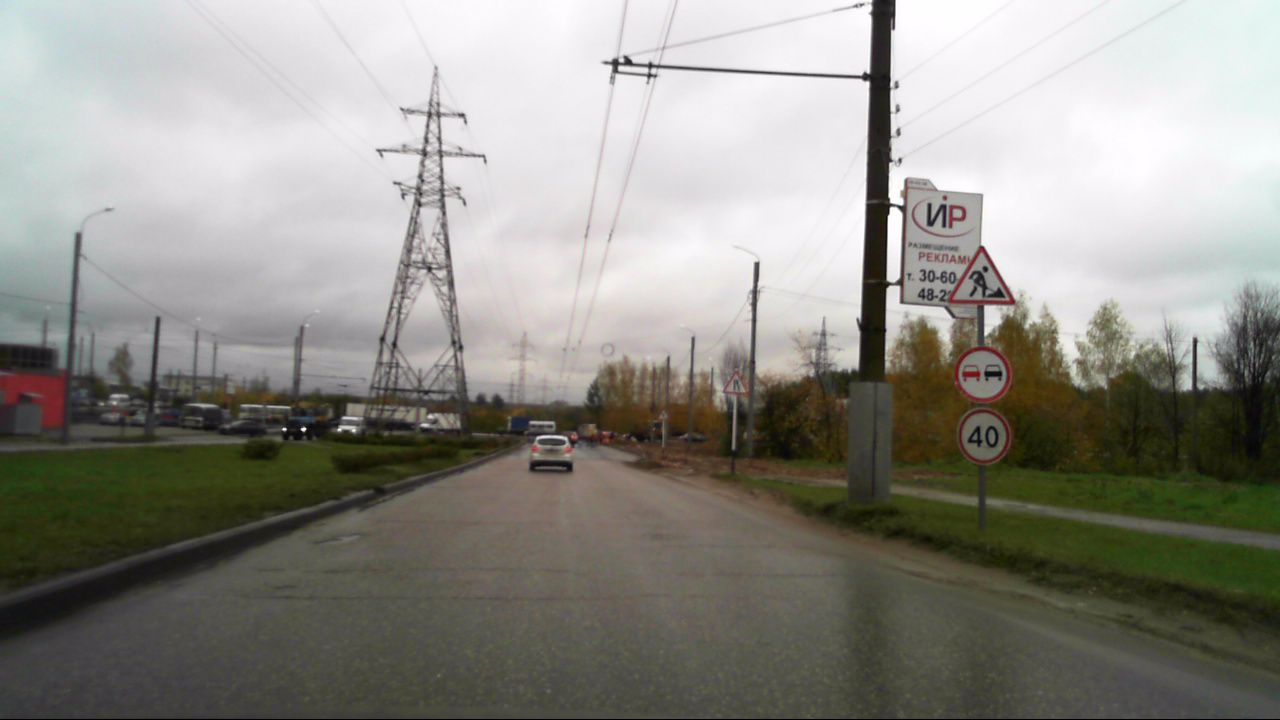speed_warning_40: (956, 409, 1012, 466)
